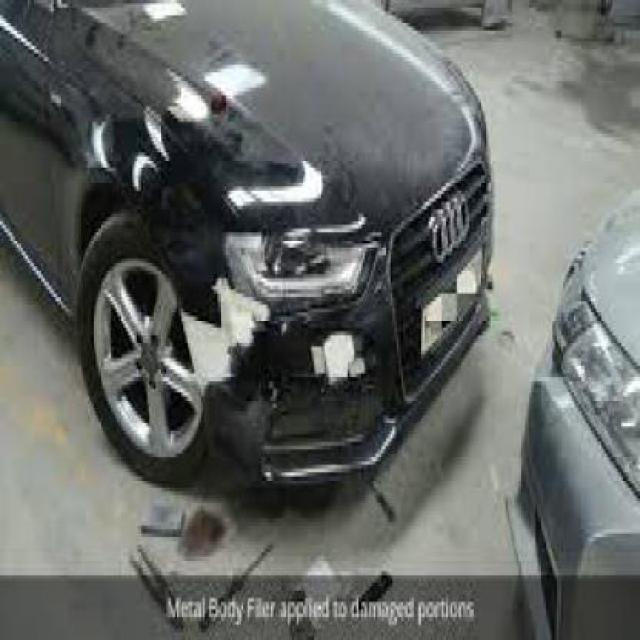damaged-front-bumper: (186, 294, 462, 474)
